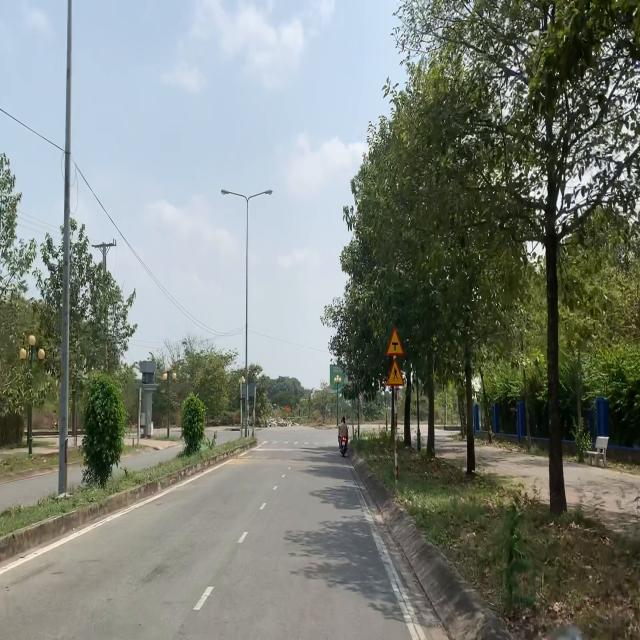Duong giao nhau: (384, 326, 404, 357)
Nguoi di bo cat ngang: (386, 358, 405, 386)
